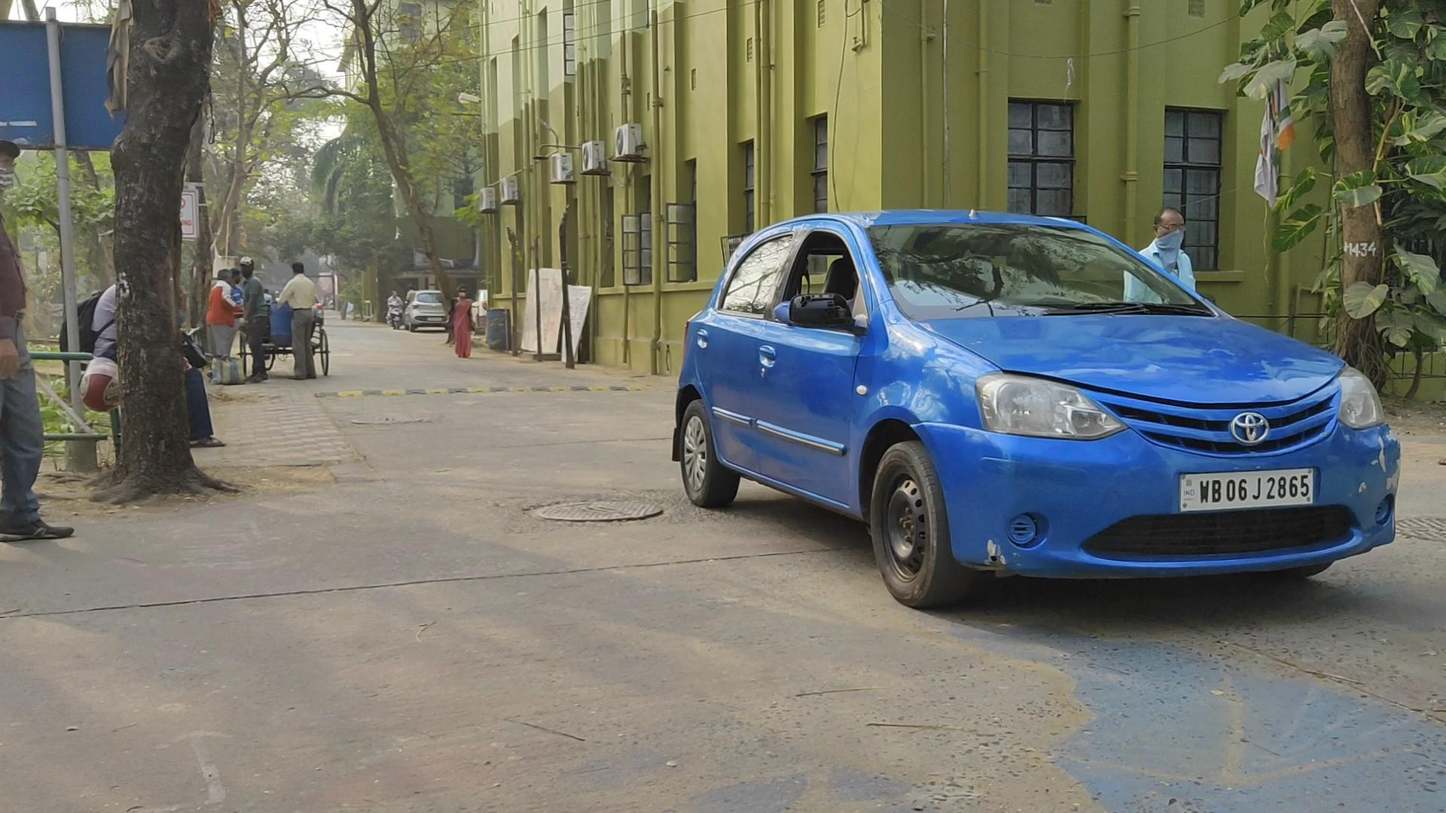bike: (386, 290, 406, 333)
car: (670, 213, 1402, 615), (403, 290, 448, 332)
